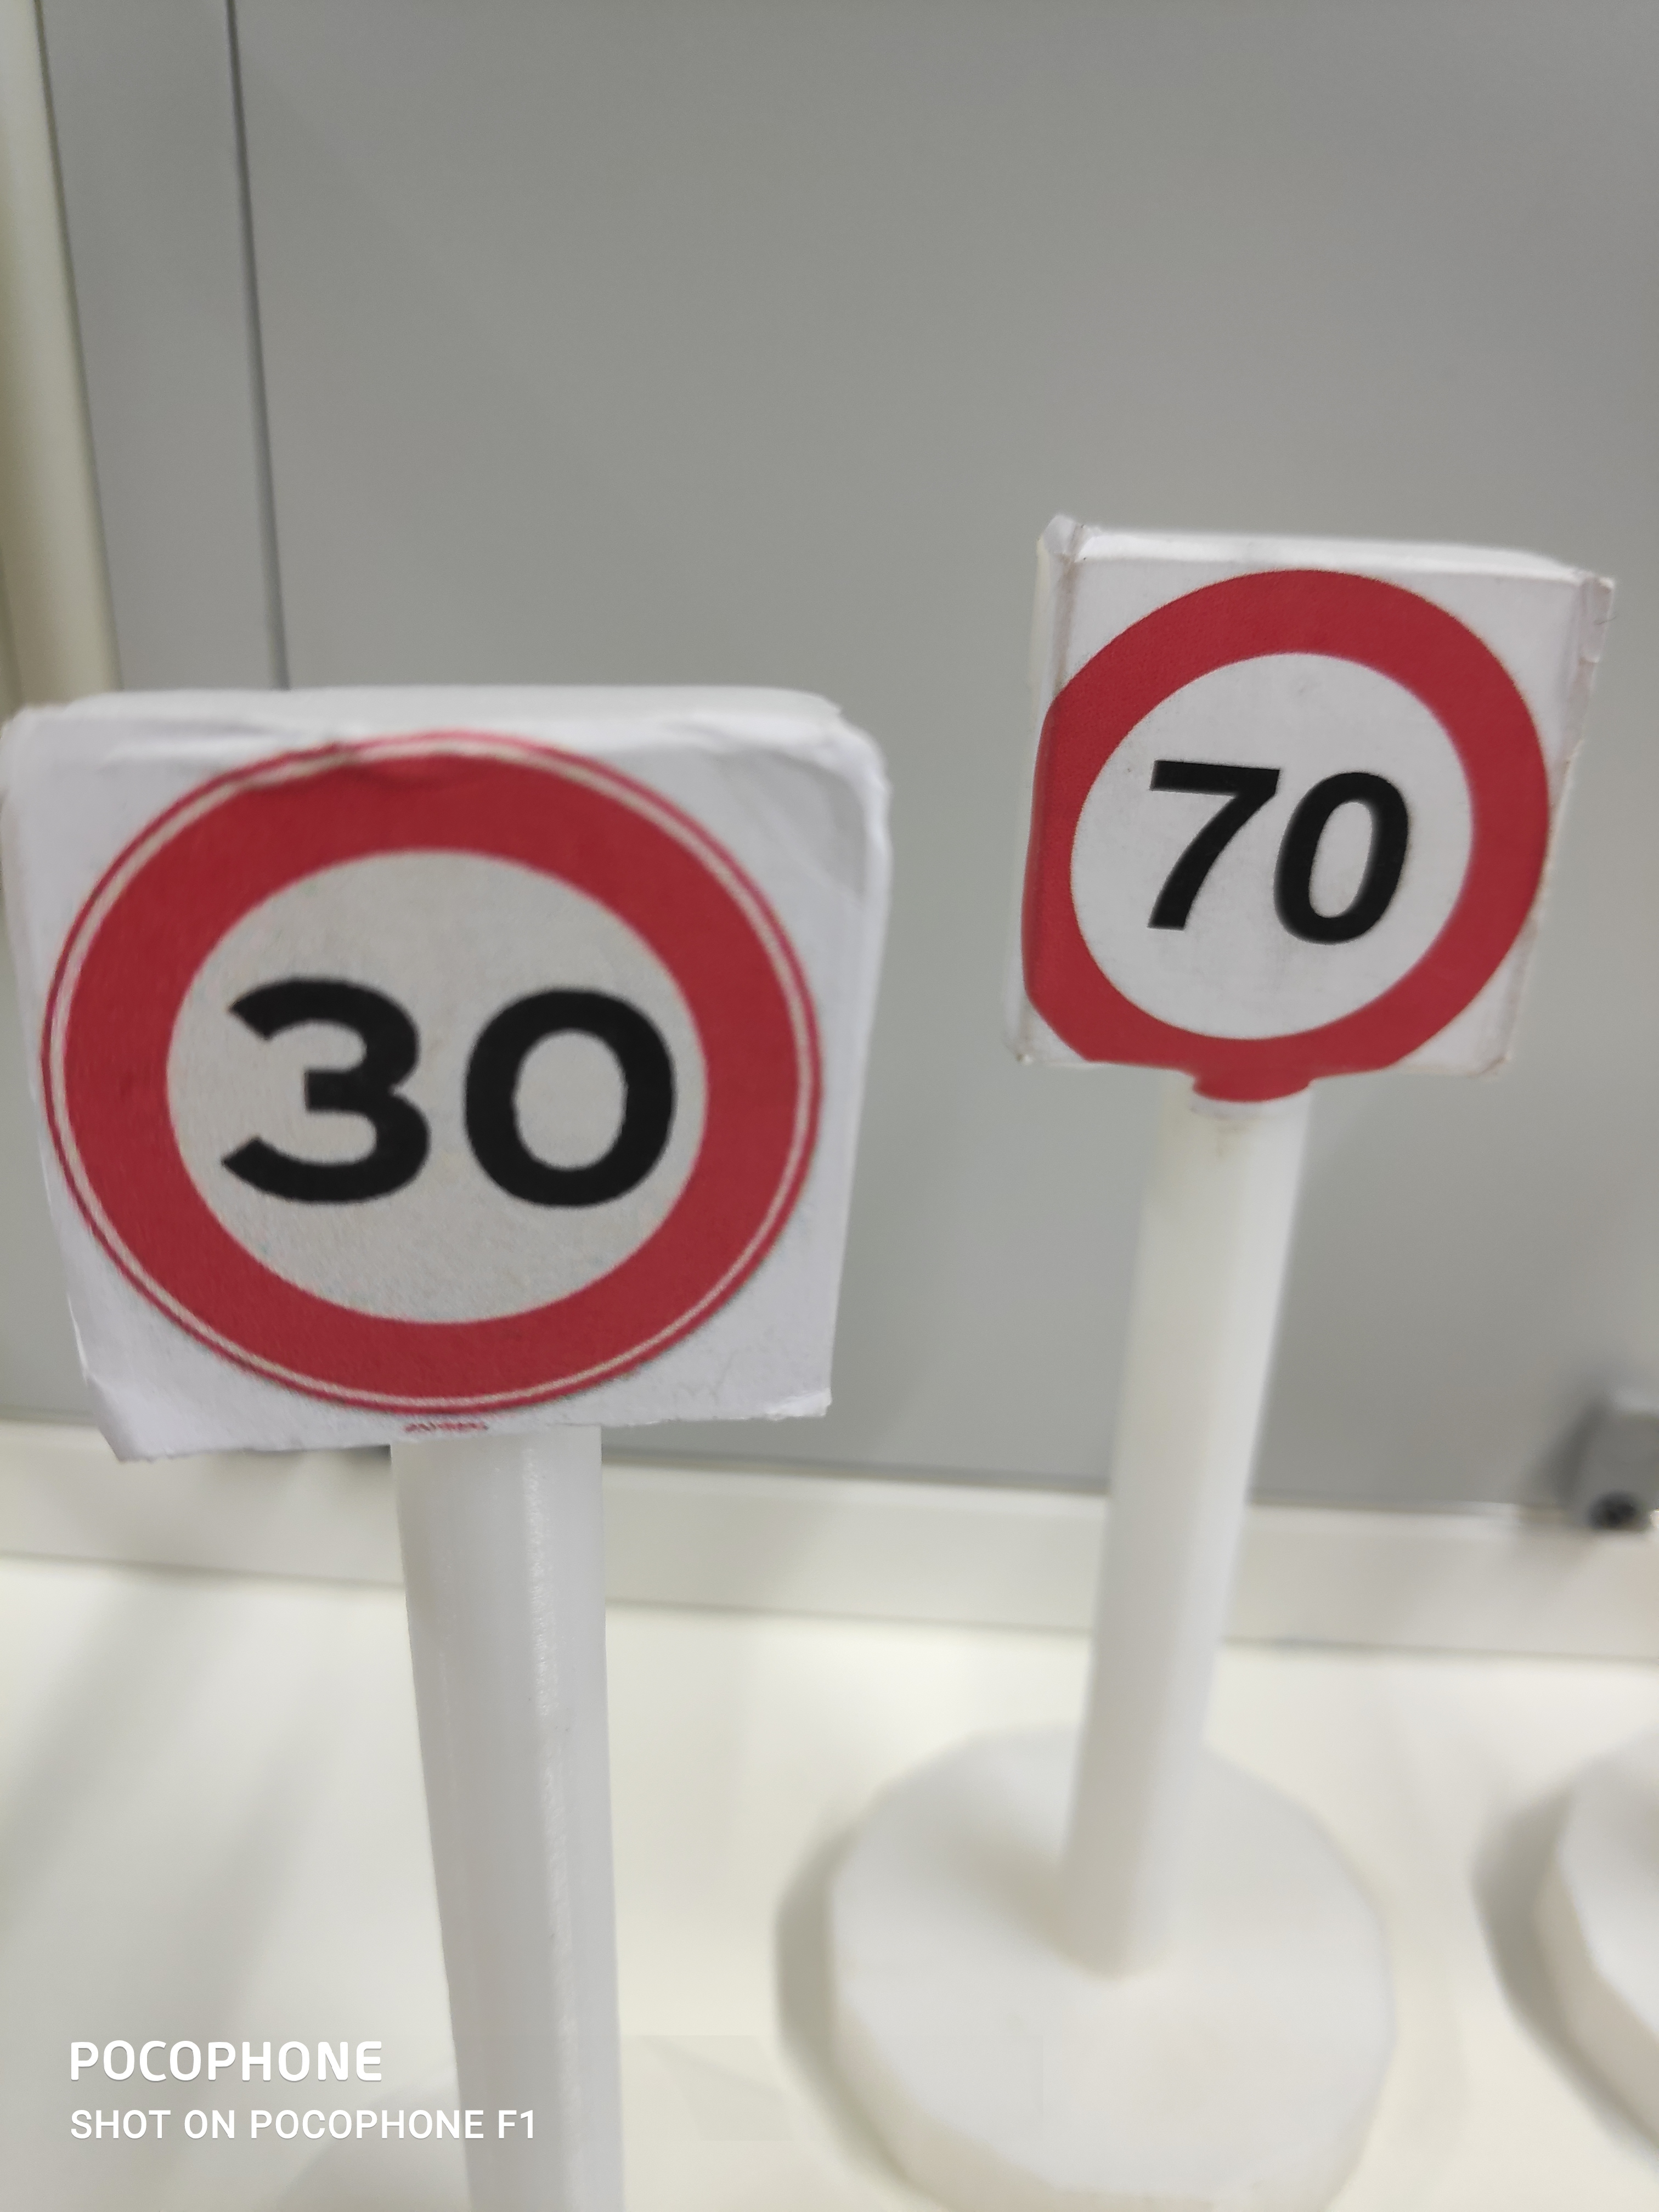30-bord: (38, 728, 796, 1423)
70-bord: (1035, 566, 1541, 1078)
